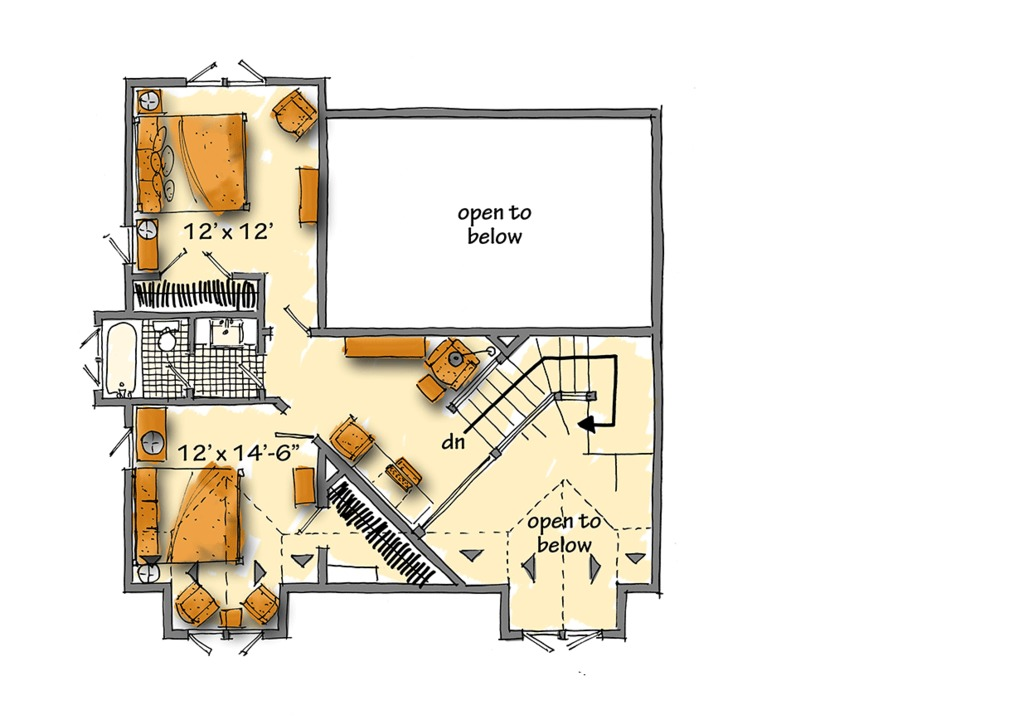bed: (129, 113, 249, 216), (126, 466, 249, 566)
large_sink: (152, 321, 183, 357)
sink: (205, 318, 242, 344)
small_sofa: (421, 338, 488, 390), (170, 575, 223, 632), (265, 92, 319, 143), (332, 406, 376, 466), (239, 580, 277, 632)
stairs: (444, 330, 637, 463)
tub: (102, 322, 144, 401)
